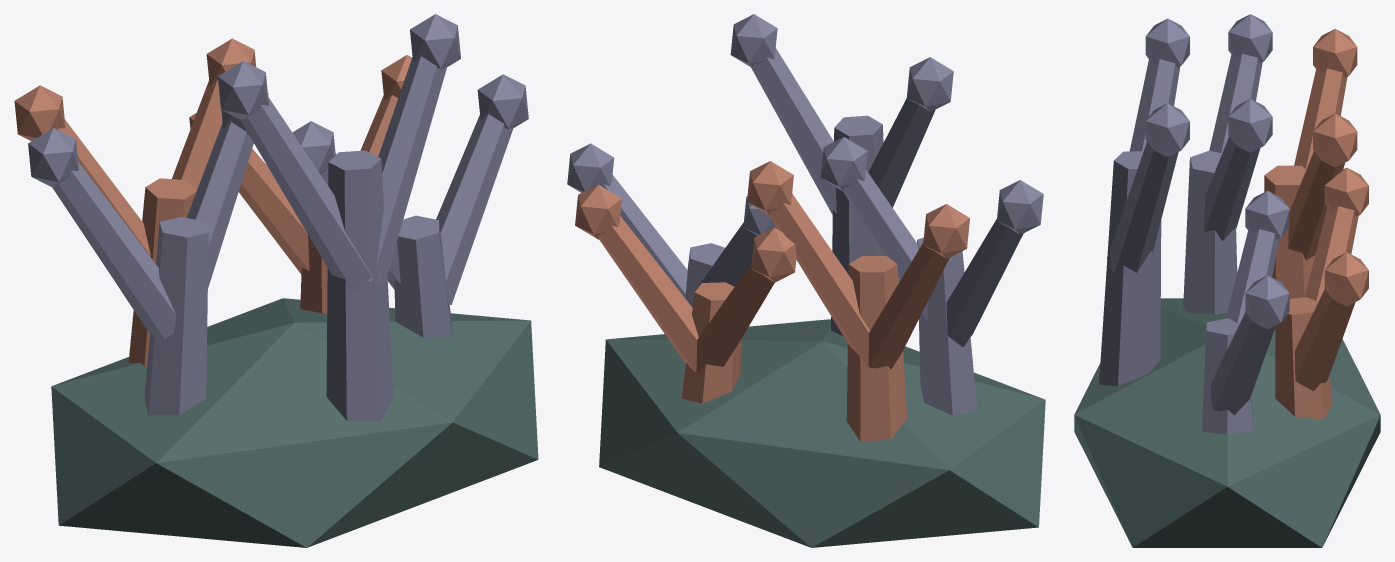
File: sea_coral.glb
The picture shows the model from 3 angles, left to right: view 1: azimuth 30°, elevation 25°; view 2: azimuth 150°, elevation 25°; view 3: azimuth 270°, elevation 25°; orthographic projection. The views are drawn at different scales.
Visible parts, largest first — view 1: rock; view 2: rock; view 3: rock.
Part boxes in pixels (bbox=[...]): rock: bbox=[14, 14, 538, 547]; rock: bbox=[567, 14, 1045, 547]; rock: bbox=[1074, 14, 1380, 547].
Bounding box in the file's own units: 1.05 × 1.01 × 0.6125.
